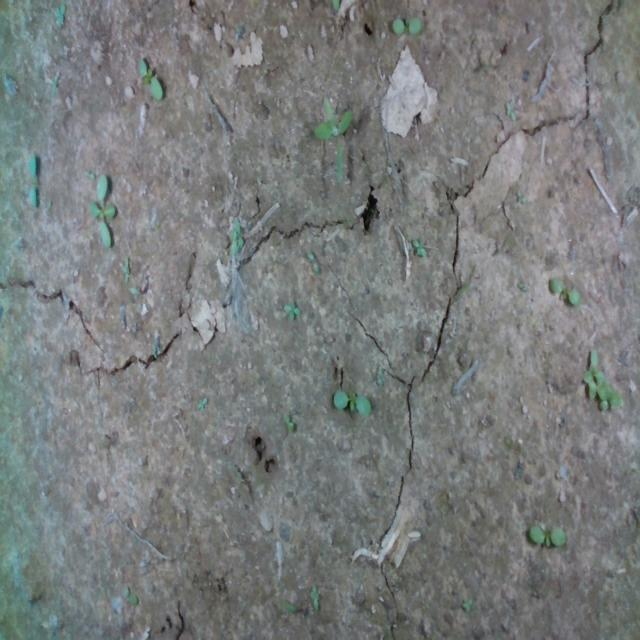weed: (313, 93, 353, 186), (85, 173, 116, 248), (133, 56, 165, 106), (333, 381, 371, 422), (528, 514, 568, 552), (546, 263, 580, 304), (25, 151, 40, 210), (410, 230, 432, 260), (392, 15, 424, 35), (282, 292, 300, 327), (500, 95, 520, 125), (280, 406, 299, 436), (195, 392, 209, 420)
